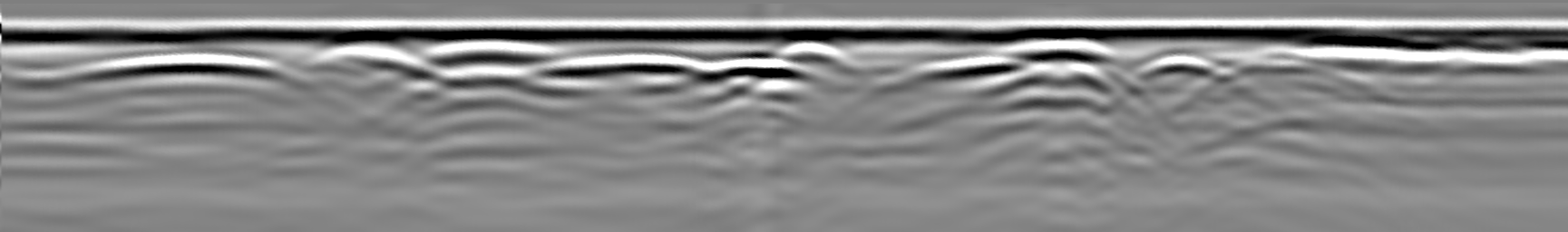pipe: (1282, 29, 1523, 60), (995, 32, 1118, 62), (314, 34, 422, 66), (760, 33, 857, 66), (433, 32, 554, 56)
steel: (89, 52, 276, 79), (560, 53, 698, 76), (704, 56, 804, 81), (1137, 50, 1222, 79)
